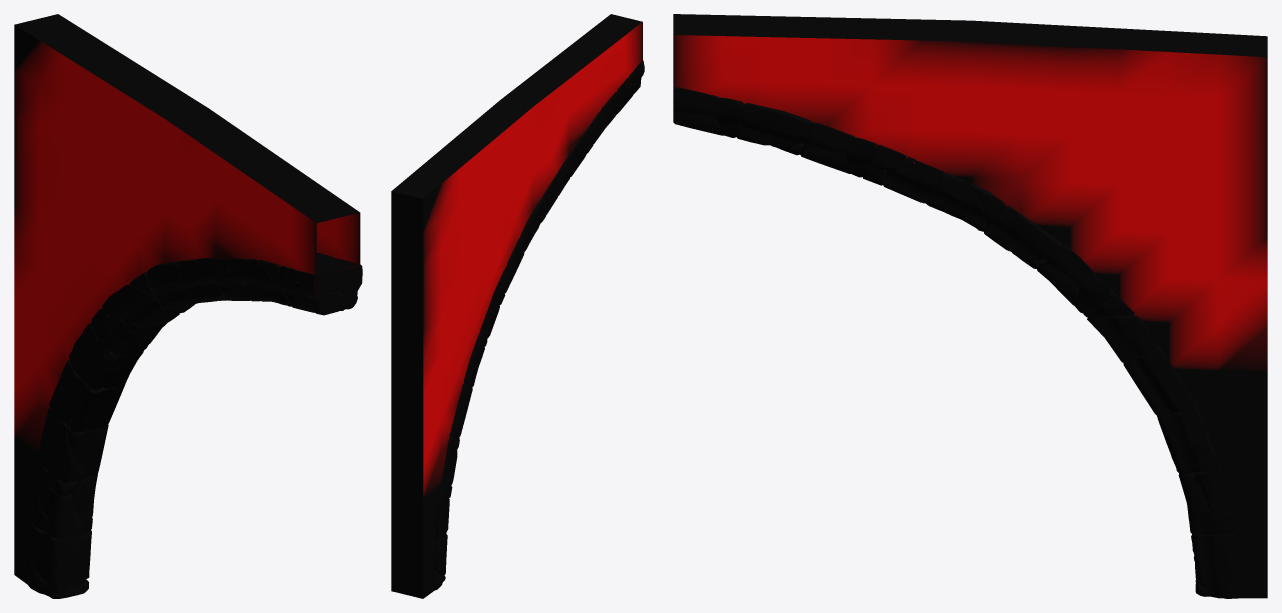
File: SM_ArchBridge_A.fbx
3 views of the same model, side by side, from view 1: azimuth 30°, elevation 25°; view 2: azimuth 150°, elevation 25°; view 3: azimuth 270°, elevation 25° (orthographic). The views are drawn at different scales.
Visible parts, largest first — view 1: SM_ArchBridge_A_LOD0; view 2: SM_ArchBridge_A_LOD0; view 3: SM_ArchBridge_A_LOD0.
Part boxes in pixels (left/top/right/bottom): SM_ArchBridge_A_LOD0: left=14, top=14, right=362, bottom=598; SM_ArchBridge_A_LOD0: left=391, top=14, right=644, bottom=598; SM_ArchBridge_A_LOD0: left=673, top=14, right=1267, bottom=598.
Size of the model in its own units: 111 by 1195 by 1250.
